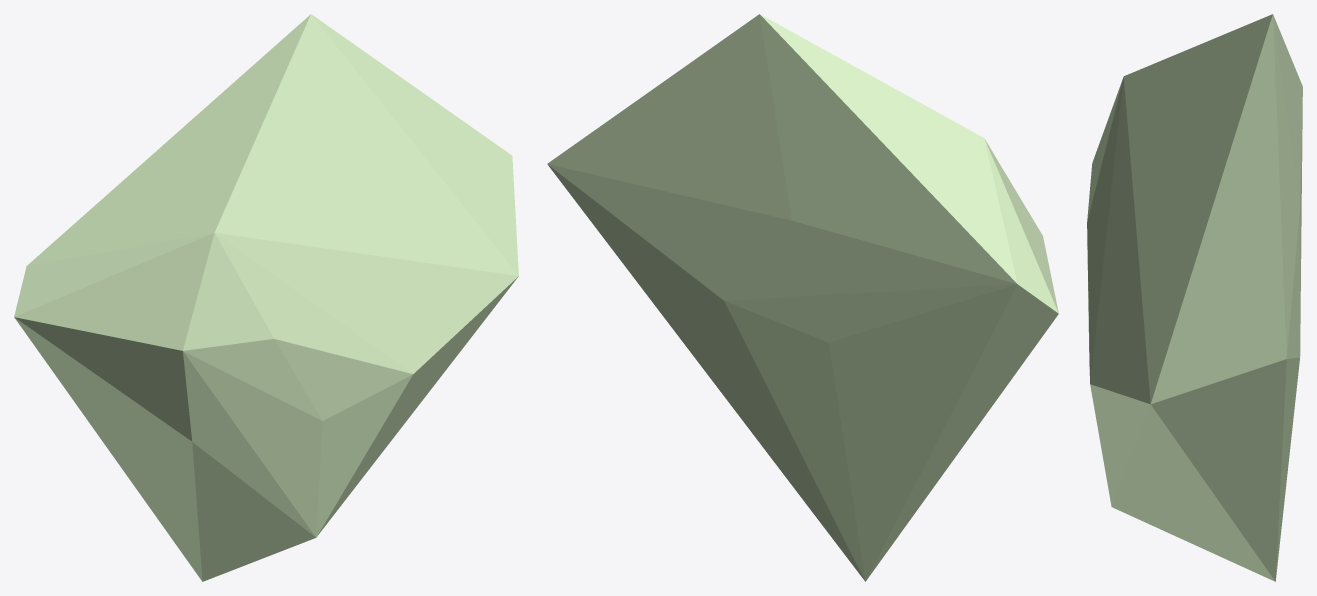
The model's file is iiwa_robot_base_coll_14.obj.
3 views of the same model, side by side, from view 1: azimuth 30°, elevation 25°; view 2: azimuth 150°, elevation 25°; view 3: azimuth 270°, elevation 25° (orthographic). The views are drawn at different scales.
Parts seen in each view (by area): view 1: node; view 2: node; view 3: node.
Boxes of the visible parts, left/top/right/bottom form: node: left=14, top=14, right=518, bottom=581; node: left=547, top=14, right=1058, bottom=581; node: left=1087, top=14, right=1302, bottom=581.
Size of the model in its own units: 0.0435 by 0.0446 by 0.0139.
